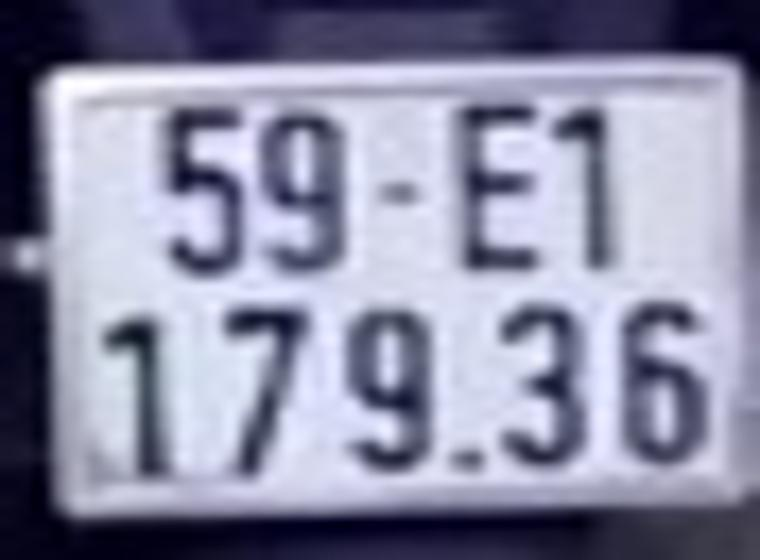-: (371, 176, 426, 211)
.: (448, 447, 486, 467)
1: (99, 309, 168, 479), (546, 102, 612, 271)
3: (495, 302, 588, 466)
5: (159, 97, 244, 275)
6: (615, 300, 707, 461)
7: (217, 307, 306, 478)
9: (254, 107, 349, 273), (343, 304, 434, 473)
E: (447, 103, 540, 275)
